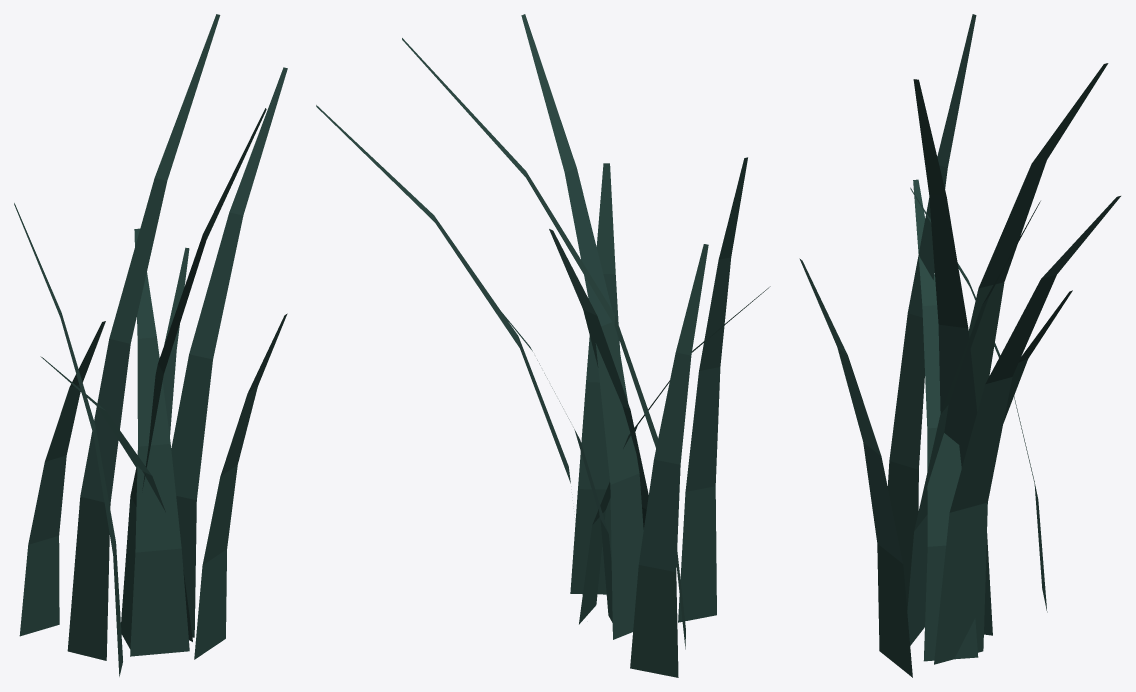
Rendered from reeds.glb.
3 renders of one model, left to right at view 1: azimuth 30°, elevation 25°; view 2: azimuth 150°, elevation 25°; view 3: azimuth 270°, elevation 25°, orthographic. The views are drawn at different scales.
Visible parts, largest first — view 1: reeds; view 2: reeds; view 3: reeds.
Boxes of the visible parts, bbox=[...] form: reeds: bbox=[14, 14, 287, 676]; reeds: bbox=[316, 14, 770, 677]; reeds: bbox=[799, 14, 1120, 677].
Bounding box in the file's own units: 0.7127 × 1.12 × 0.4966.
